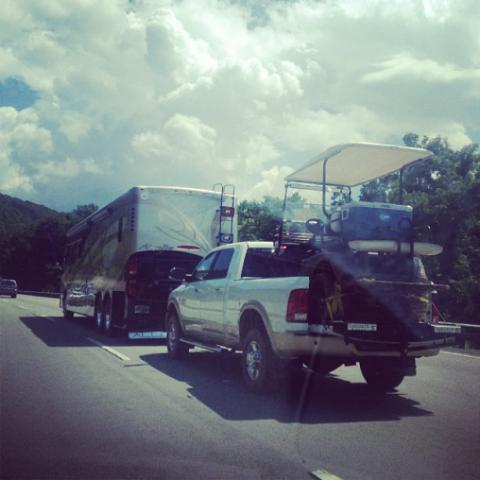bus: (56, 184, 243, 338)
car: (1, 280, 16, 298)
truck: (162, 242, 461, 392)
